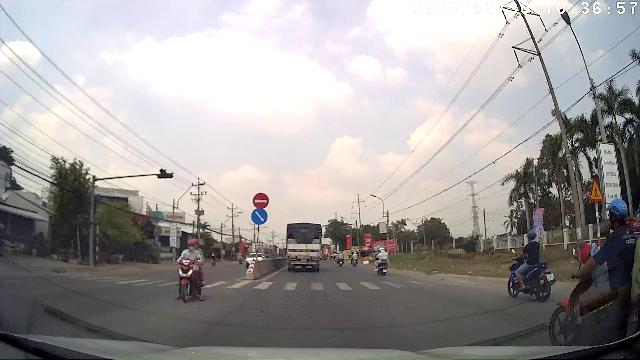102-cam-di-nguoc-chieu: (252, 192, 270, 208)
302a-huong-phai-di-vong-chuong-ngai-vat-1: (251, 208, 268, 224)
